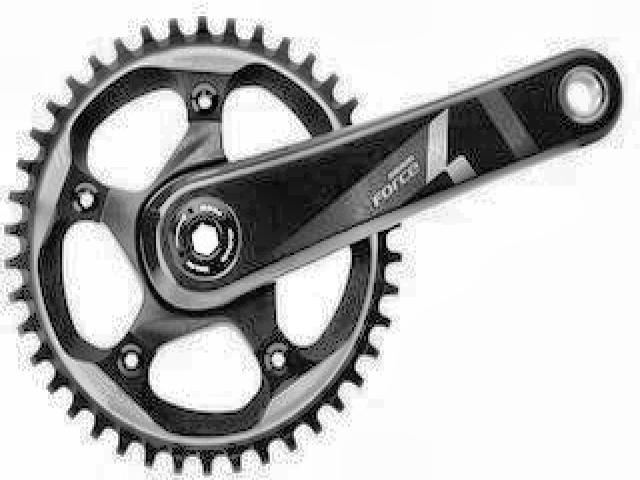cranks_set: (4, 5, 624, 476)
